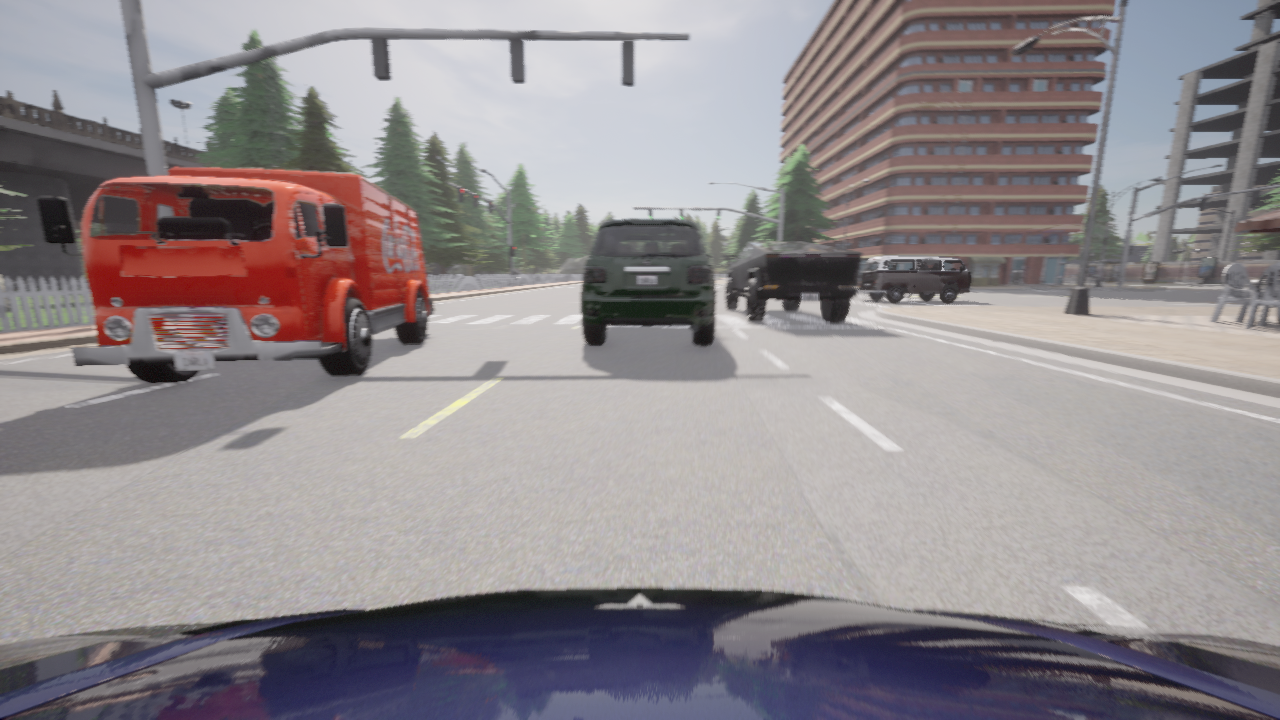cyclist: (0, 588, 1279, 719), (36, 166, 433, 383), (581, 219, 715, 345), (724, 242, 861, 322), (858, 255, 970, 302), (908, 293, 912, 296)
